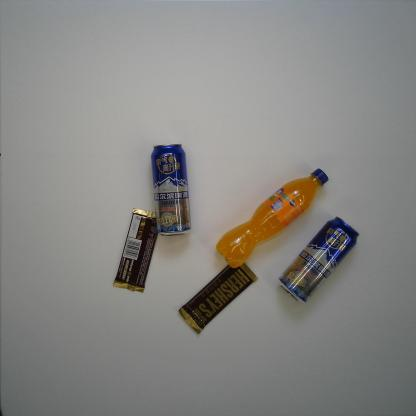Alcohol: (278, 215, 360, 304), (150, 143, 192, 238)
Chocolate: (178, 262, 259, 335), (112, 208, 159, 293)
Drink: (215, 167, 330, 269)
